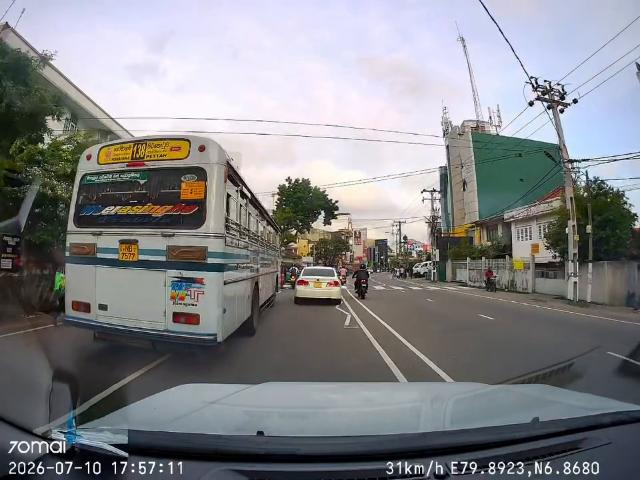illegal overtaking: (353, 255, 379, 306)
